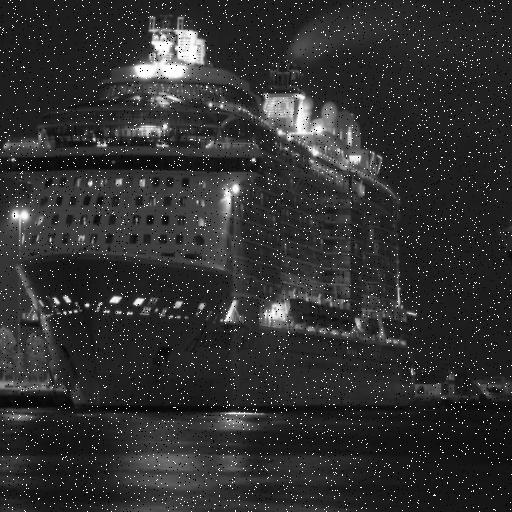cruises: (1, 12, 417, 425)
